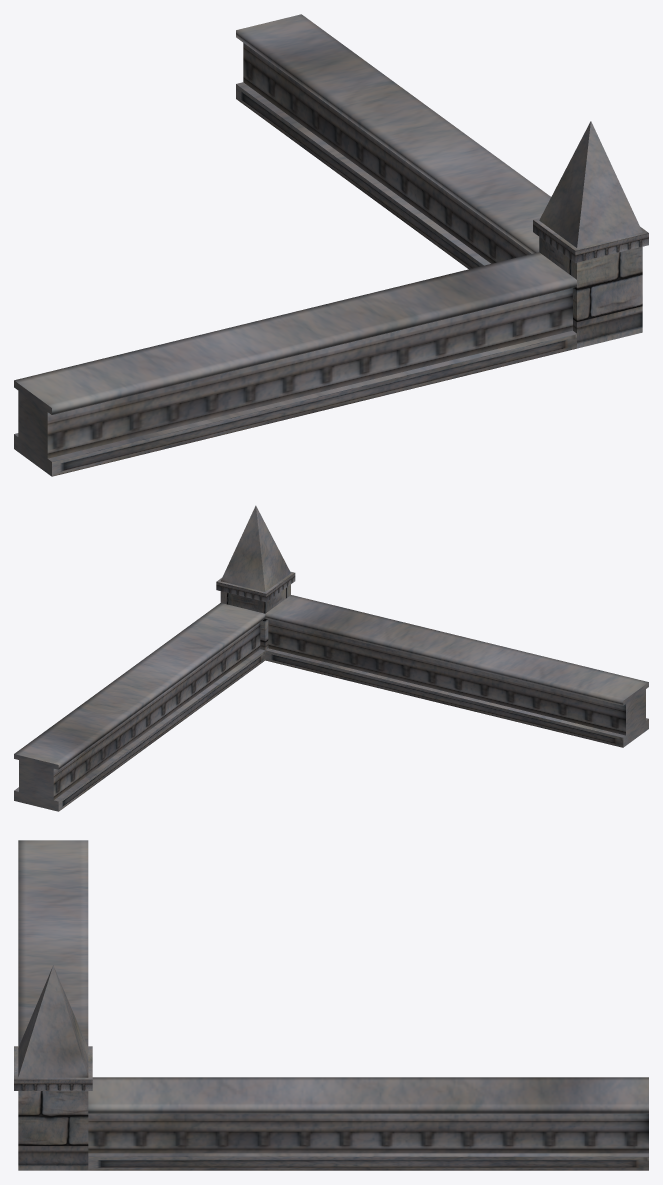
The model's file is railing_outside_corner_01.fbx.
The picture shows the model from 3 angles, top to bottom: view 1: azimuth 30°, elevation 25°; view 2: azimuth 150°, elevation 25°; view 3: azimuth 270°, elevation 25°; orthographic projection. The views are drawn at different scales.
Parts seen in each view (by area): view 1: railing_outside_corner_01; view 2: railing_outside_corner_01; view 3: railing_outside_corner_01.
Boxes of the visible parts, x1=… form: railing_outside_corner_01: x1=14, y1=14, x2=648, y2=476; railing_outside_corner_01: x1=14, y1=505, x2=648, y2=811; railing_outside_corner_01: x1=14, y1=840, x2=648, y2=1170.
Bounding box in the file's own units: 906 × 300 × 906.
